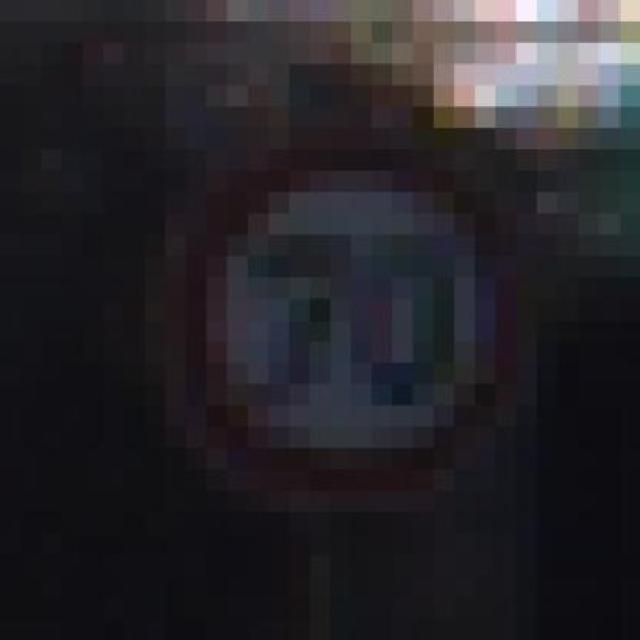forb_speed_over_70: (175, 146, 523, 495)
